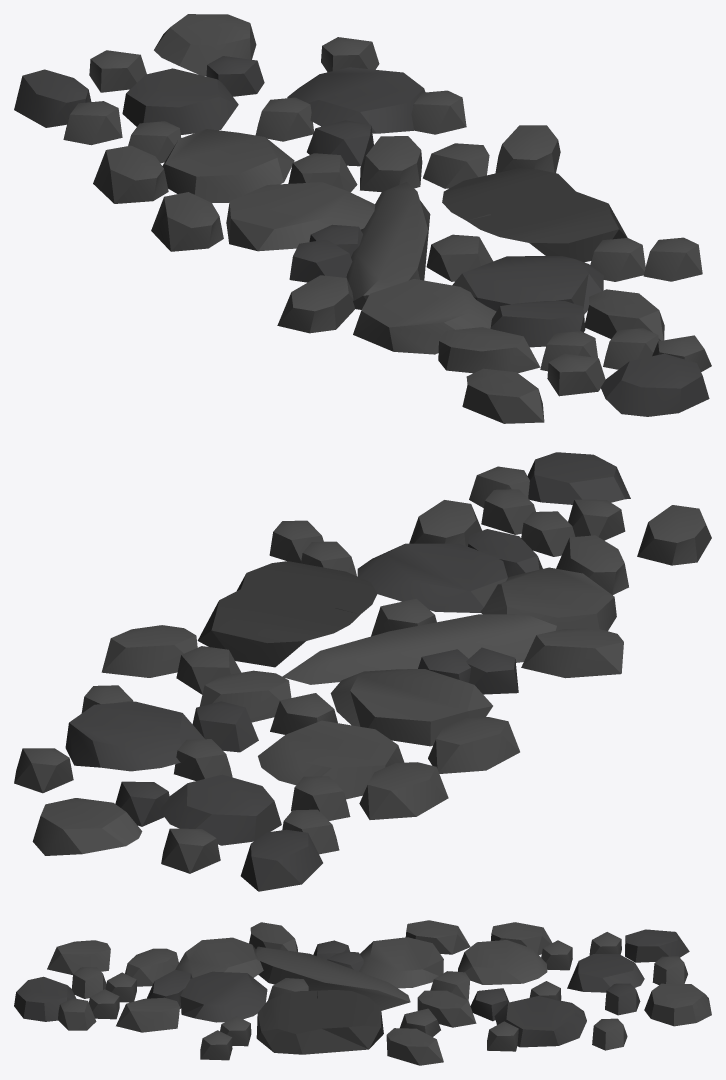
File: ea_swamp_stones_04a_pre_16_lev1.glb
3 views of the same model, one above another, from view 1: azimuth 30°, elevation 25°; view 2: azimuth 150°, elevation 25°; view 3: azimuth 270°, elevation 25° (orthographic). The views are drawn at different scales.
Visible parts, largest first — view 1: ea_swamp_stones_04a_pre_16_lev1; view 2: ea_swamp_stones_04a_pre_16_lev1; view 3: ea_swamp_stones_04a_pre_16_lev1.
Part boxes in pixels (box(x1,y1,x2,y2)): ea_swamp_stones_04a_pre_16_lev1: box(14, 14, 711, 423); ea_swamp_stones_04a_pre_16_lev1: box(14, 452, 711, 891); ea_swamp_stones_04a_pre_16_lev1: box(14, 920, 711, 1065).
Bounding box in the file's own units: 2.32 × 0.168 × 5.2.
1 material, 1 textured.
